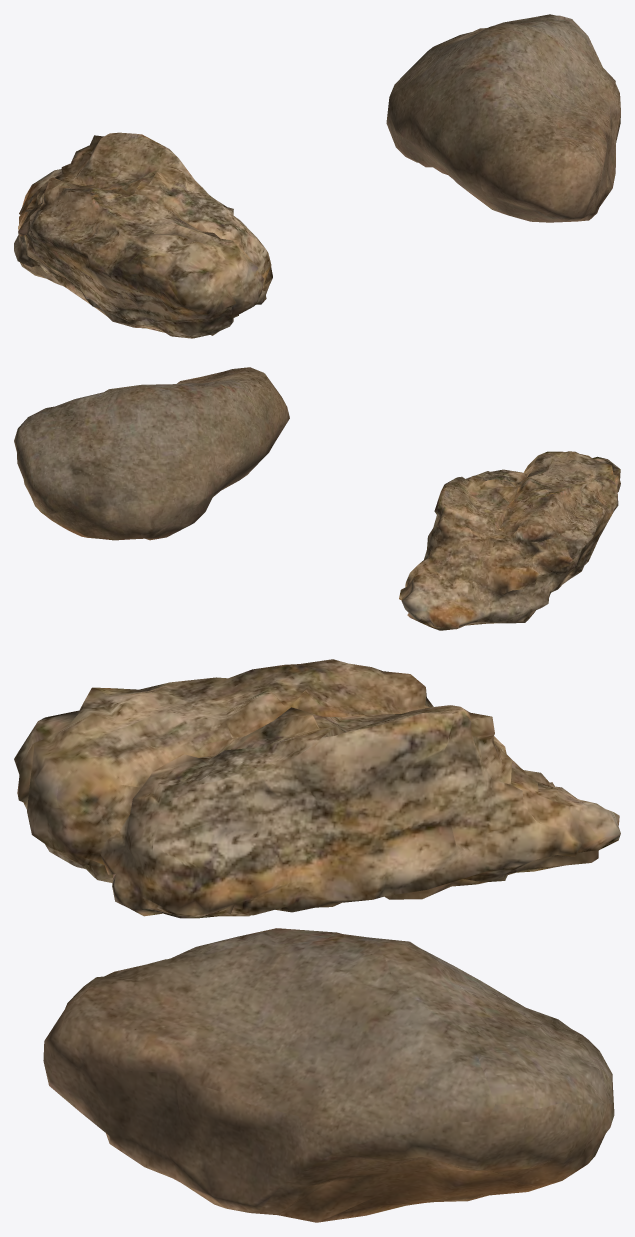
File: namaqualand_boulders_01.glb
The picture shows the model from 3 angles, top to bottom: view 1: azimuth 30°, elevation 25°; view 2: azimuth 150°, elevation 25°; view 3: azimuth 270°, elevation 25°; orthographic projection. The views are drawn at different scales.
Visible parts, largest first — view 1: namaqualand_rocks_01_a, namaqualand_rocks_01_b; view 2: namaqualand_rocks_01_a, namaqualand_rocks_01_b; view 3: namaqualand_rocks_01_a, namaqualand_rocks_01_b.
Boxes of the visible parts, x1=… form: namaqualand_rocks_01_a: x1=386, y1=14, x2=620, y2=222; namaqualand_rocks_01_b: x1=14, y1=132, x2=272, y2=338; namaqualand_rocks_01_a: x1=14, y1=367, x2=289, y2=540; namaqualand_rocks_01_b: x1=399, y1=451, x2=620, y2=630; namaqualand_rocks_01_a: x1=43, y1=928, x2=614, y2=1222; namaqualand_rocks_01_b: x1=14, y1=659, x2=620, y2=918.
Bounding box in the file's own units: 1.06 × 0.2498 × 0.5854.
1 material, 1 textured.
